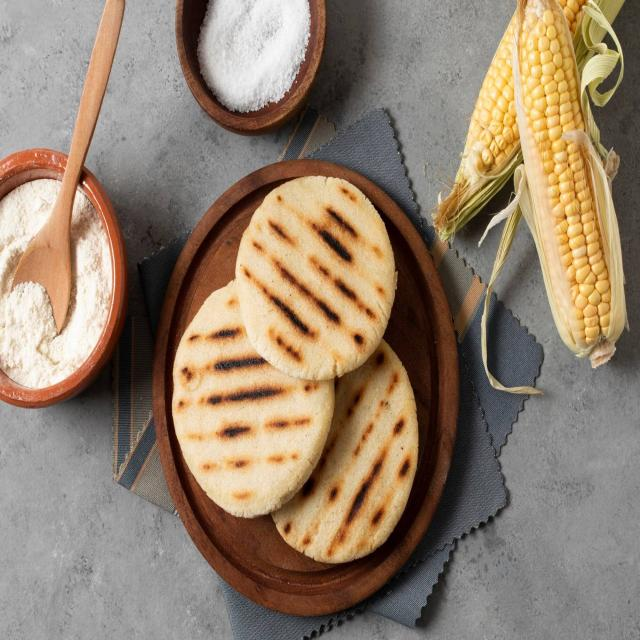arepa: (167, 275, 343, 526), (260, 323, 422, 570), (236, 165, 402, 388)
